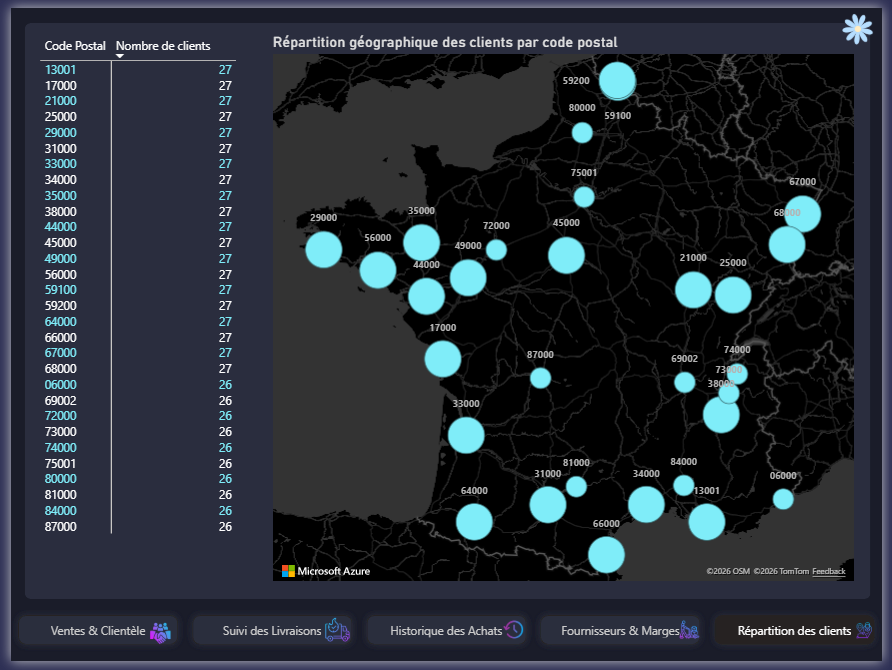

What the dashboard file says about the page in this screenshot:
{"tool":"powerbi","page":{"name":"Répartition des clients ","canvas":[995,747],"ordinal":4},"visuals":[{"type":"shape","box":[15.3,17,966.7,658.3],"z":0},{"type":"azureMap","title":"Répartition géographique des clients par code postal","fields":{"Category":["SAE_CLIENT.CODEPOSTAL"],"Size":["CountNonNull(SAE_CLIENT.NUMTELCLIENT)"]},"box":[294.1,28.2,674.4,631],"z":1000},{"type":"pivotTable","fields":{"Rows":["SAE_CLIENT.CODEPOSTAL"],"Values":["CountNonNull(SAE_CLIENT.NUMTELCLIENT)"]},"box":[28.7,28.7,251.7,586.7],"z":2000},{"type":"pageNavigator","box":[0,686,995,50],"z":3000},{"type":"image","box":[147.5,696.7,46.7,35],"z":4000},{"type":"image","box":[344.2,685.8,58.3,50],"z":5000},{"type":"image","box":[556.2,695,36.9,32.5],"z":6000},{"type":"image","box":[759.2,694.2,33.3,32.5],"z":7000},{"type":"image","box":[959.4,697.5,30.6,28.1],"z":8000},{"type":"image","box":[942.1,0,52.9,48.6],"z":9000}]}

Visuals, with their boxes on the page's 995x747 design canvas (x1, y1, x2, y2). These are canvas units, not pixel positions in the 892x670 screenshot, which may show the page scaled, cropped or inside an application window:
shape: [15,17,982,675]
"Répartition géographique des clients par code postal" azureMap: [294,28,968,659]
pivotTable - SAE_CLIENT.CODEPOSTAL x CountNonNull(SAE_CLIENT.NUMTELCLIENT): [29,29,280,615]
pageNavigator: [0,686,995,736]
image: [148,697,194,732]
image: [344,686,402,736]
image: [556,695,593,728]
image: [759,694,792,727]
image: [959,698,990,726]
image: [942,0,995,49]
